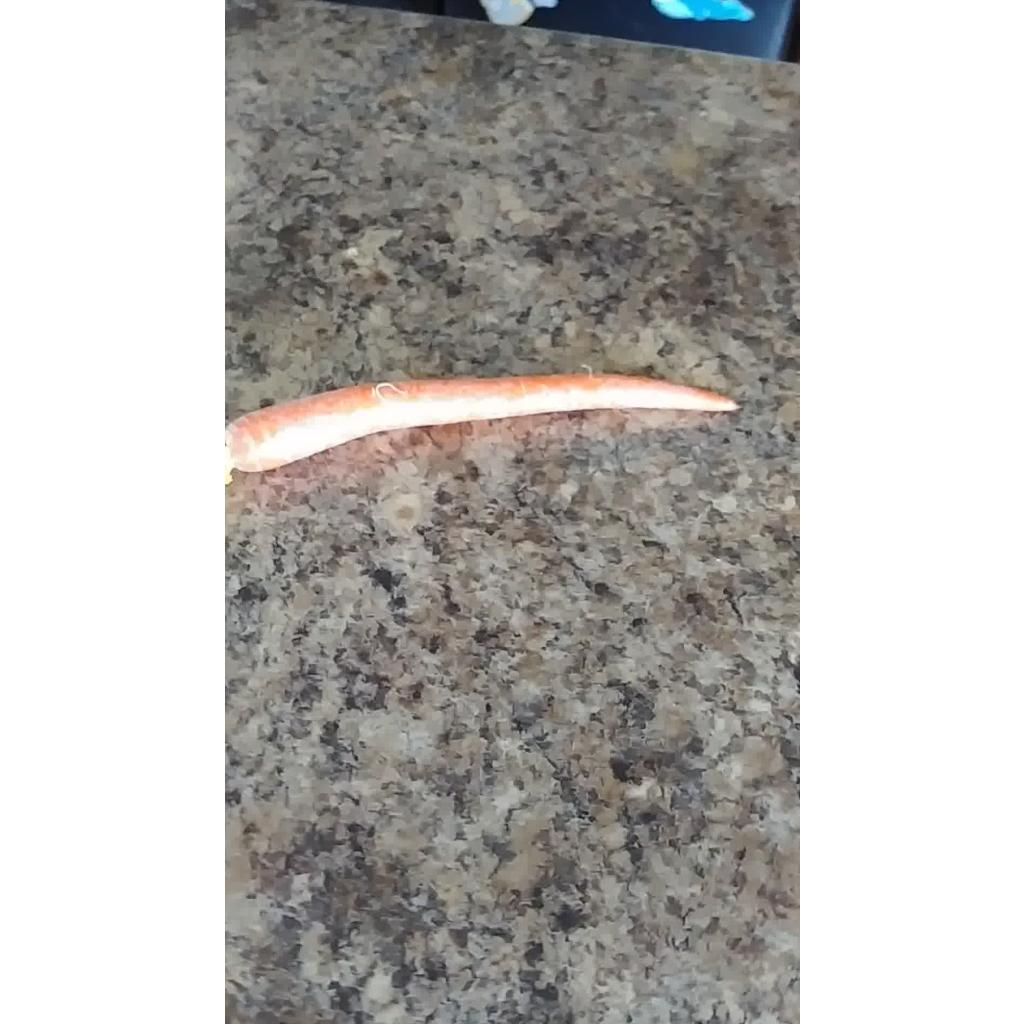carrot: (224, 374, 738, 481)
